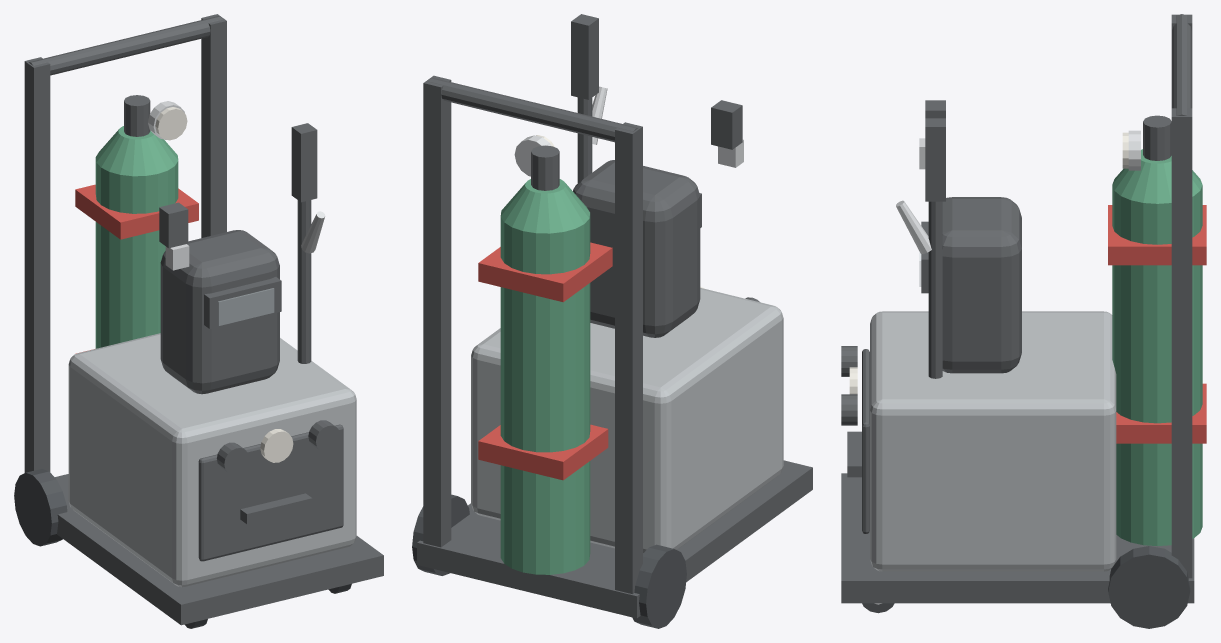
The model's file is car-repair-garage-and-mot-workshop-car-repair-garage-a-0951860c__34025.glb.
The picture shows the model from 3 angles, left to right: view 1: azimuth 30°, elevation 25°; view 2: azimuth 150°, elevation 25°; view 3: azimuth 270°, elevation 25°; orthographic projection. The views are drawn at different scales.
Parts seen in each view (by area): view 1: car-repair-garage-and-mot-workshop-welding-set; view 2: car-repair-garage-and-mot-workshop-welding-set; view 3: car-repair-garage-and-mot-workshop-welding-set.
Boxes of the visible parts, x1,y1,x2,y2 form: car-repair-garage-and-mot-workshop-welding-set: (14,14,383,628); car-repair-garage-and-mot-workshop-welding-set: (412,14,812,628); car-repair-garage-and-mot-workshop-welding-set: (841,14,1206,628).
Size of the model in its own units: 0.66 by 1.36 by 0.89.
